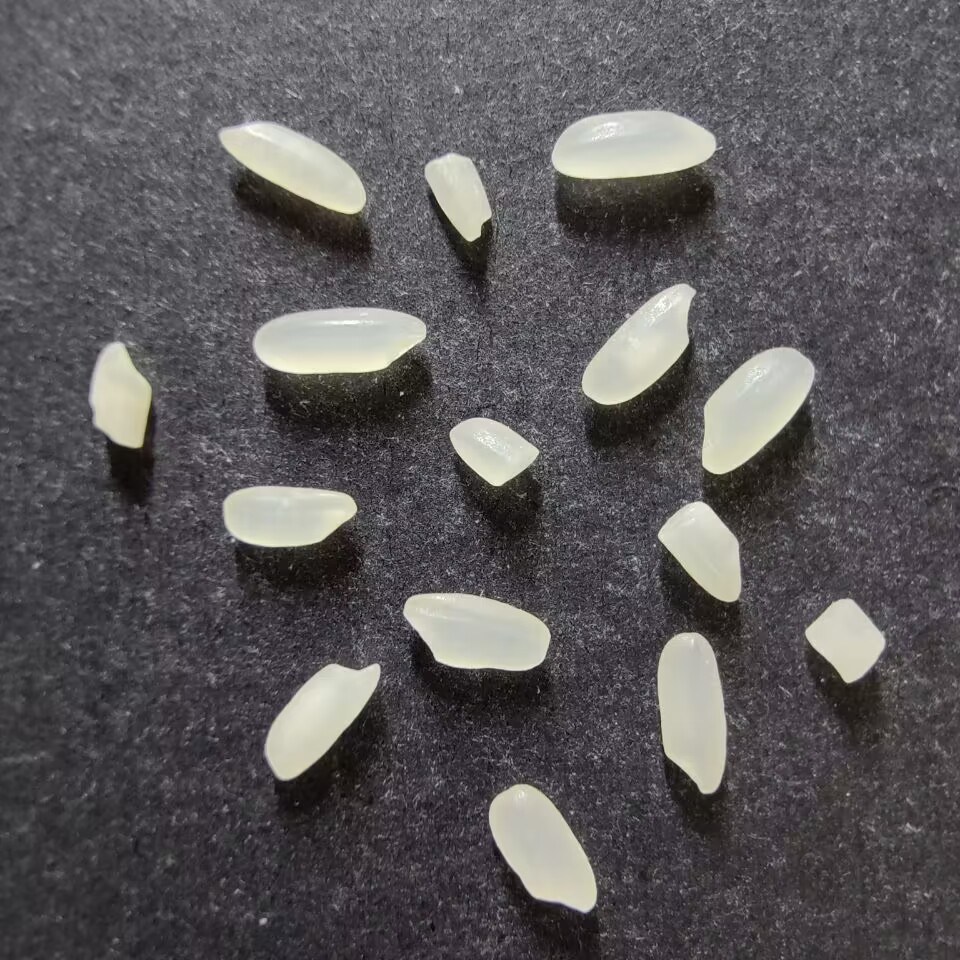broken: (656, 500, 744, 602), (803, 598, 886, 683), (89, 341, 151, 449), (447, 416, 538, 487), (423, 152, 493, 242)
rice: (699, 346, 815, 475), (487, 782, 598, 912), (581, 282, 696, 405), (263, 662, 381, 780), (218, 122, 367, 215), (252, 306, 427, 374), (402, 592, 550, 672), (656, 631, 727, 795), (550, 110, 717, 179), (222, 485, 357, 547)
